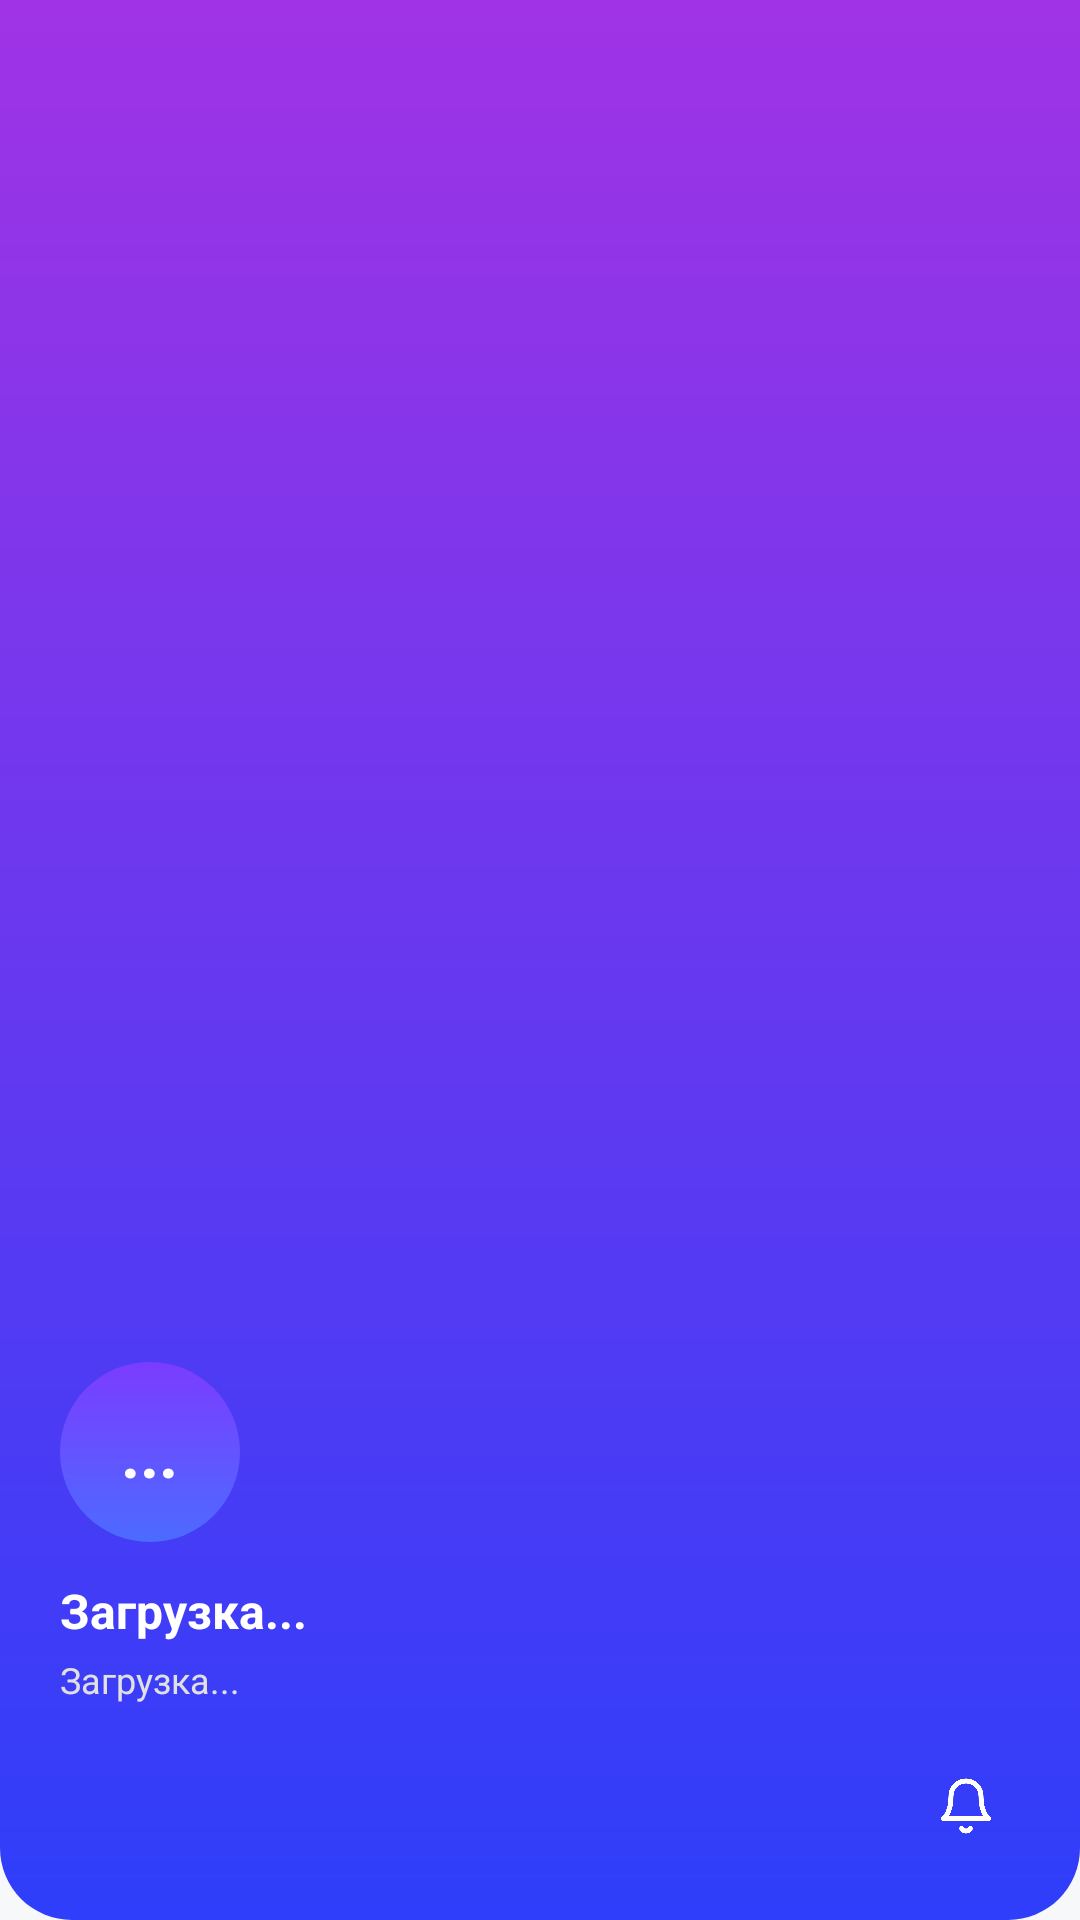

Screen size 1080 x 1920. Icon name, then its center in pixels as (x=x, y=y):
bell: (x=966, y=1806)
